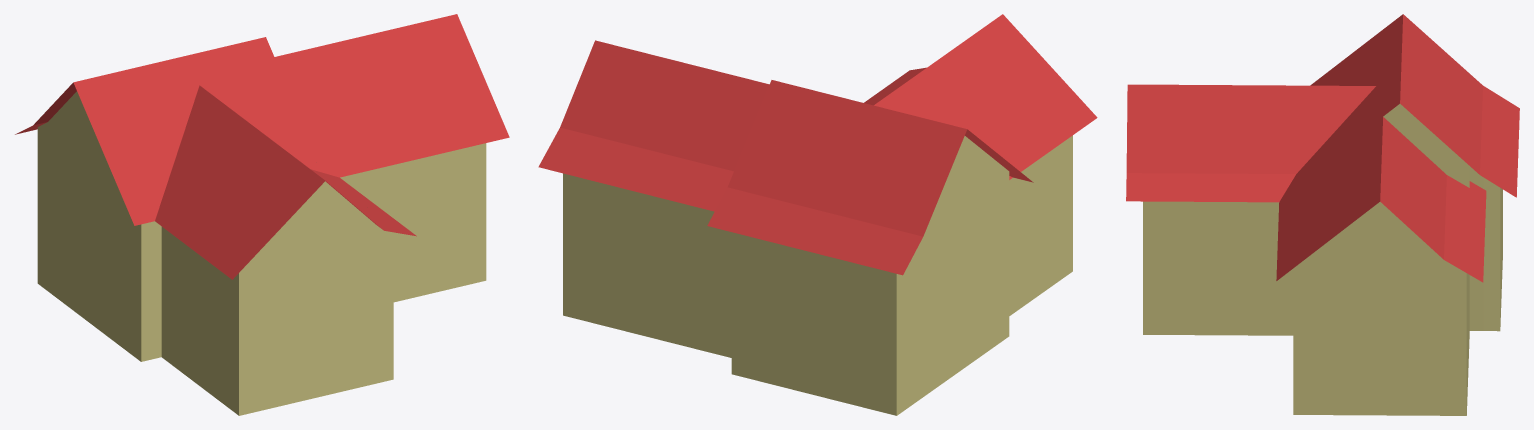
3 renders of one model, left to right at view 1: azimuth 30°, elevation 25°; view 2: azimuth 150°, elevation 25°; view 3: azimuth 270°, elevation 25°, orthographic. The views are drawn at different scales.
Size of the model in its own units: 24.96 by 23.62 by 15.48.
